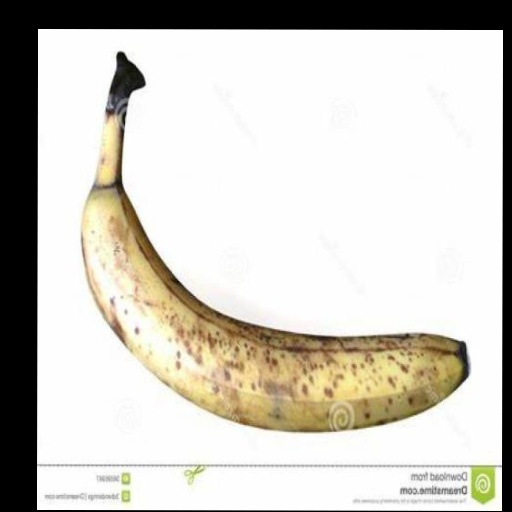fruit: (81, 53, 468, 431)
